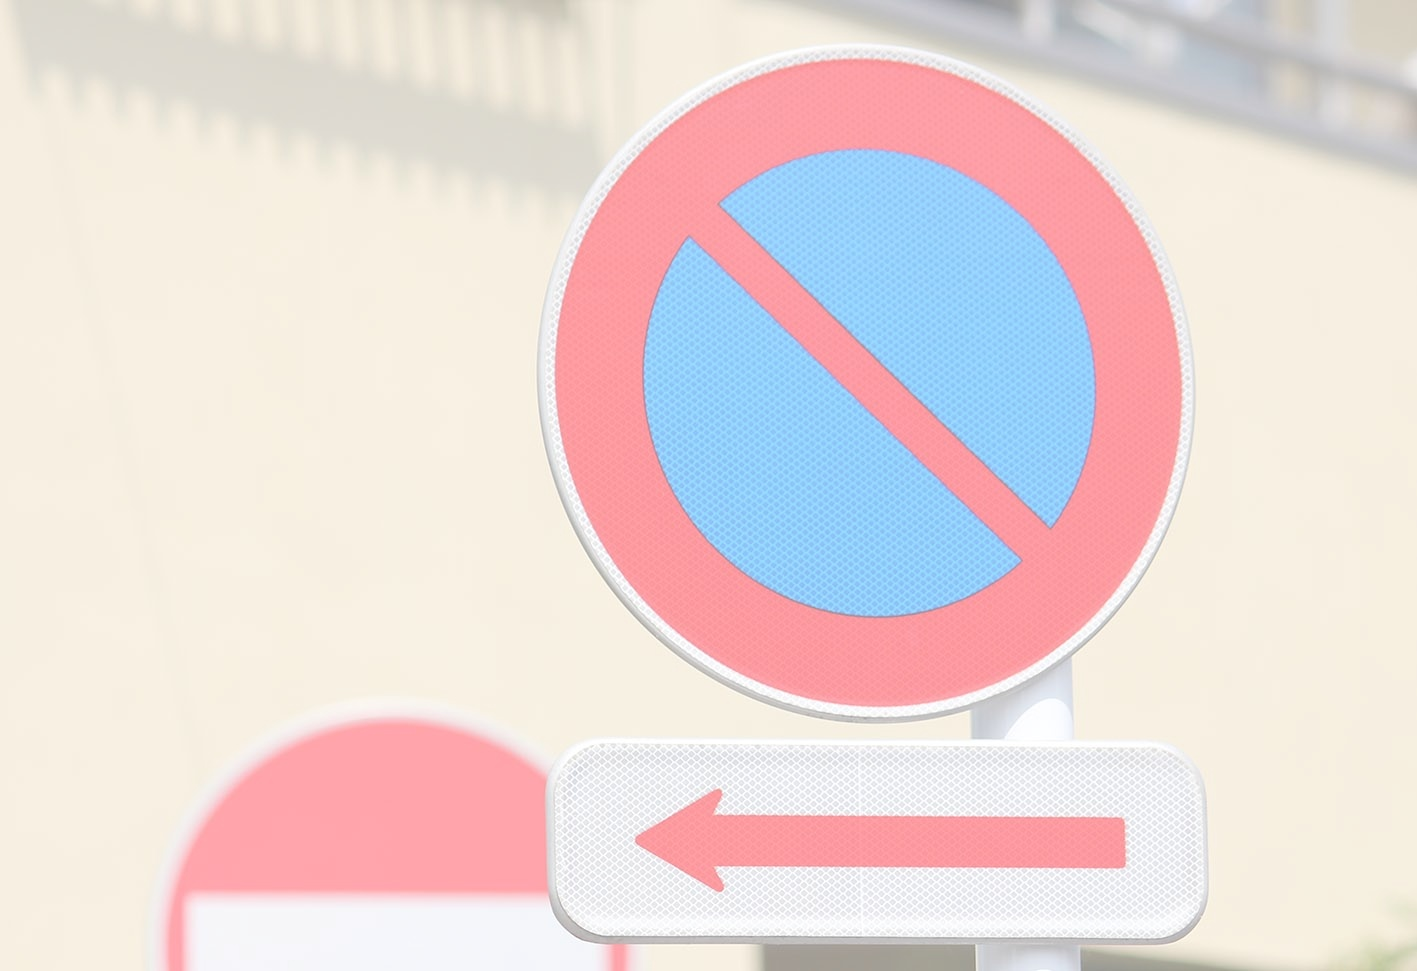Prohibition_sign: (379, 22, 1268, 788)
